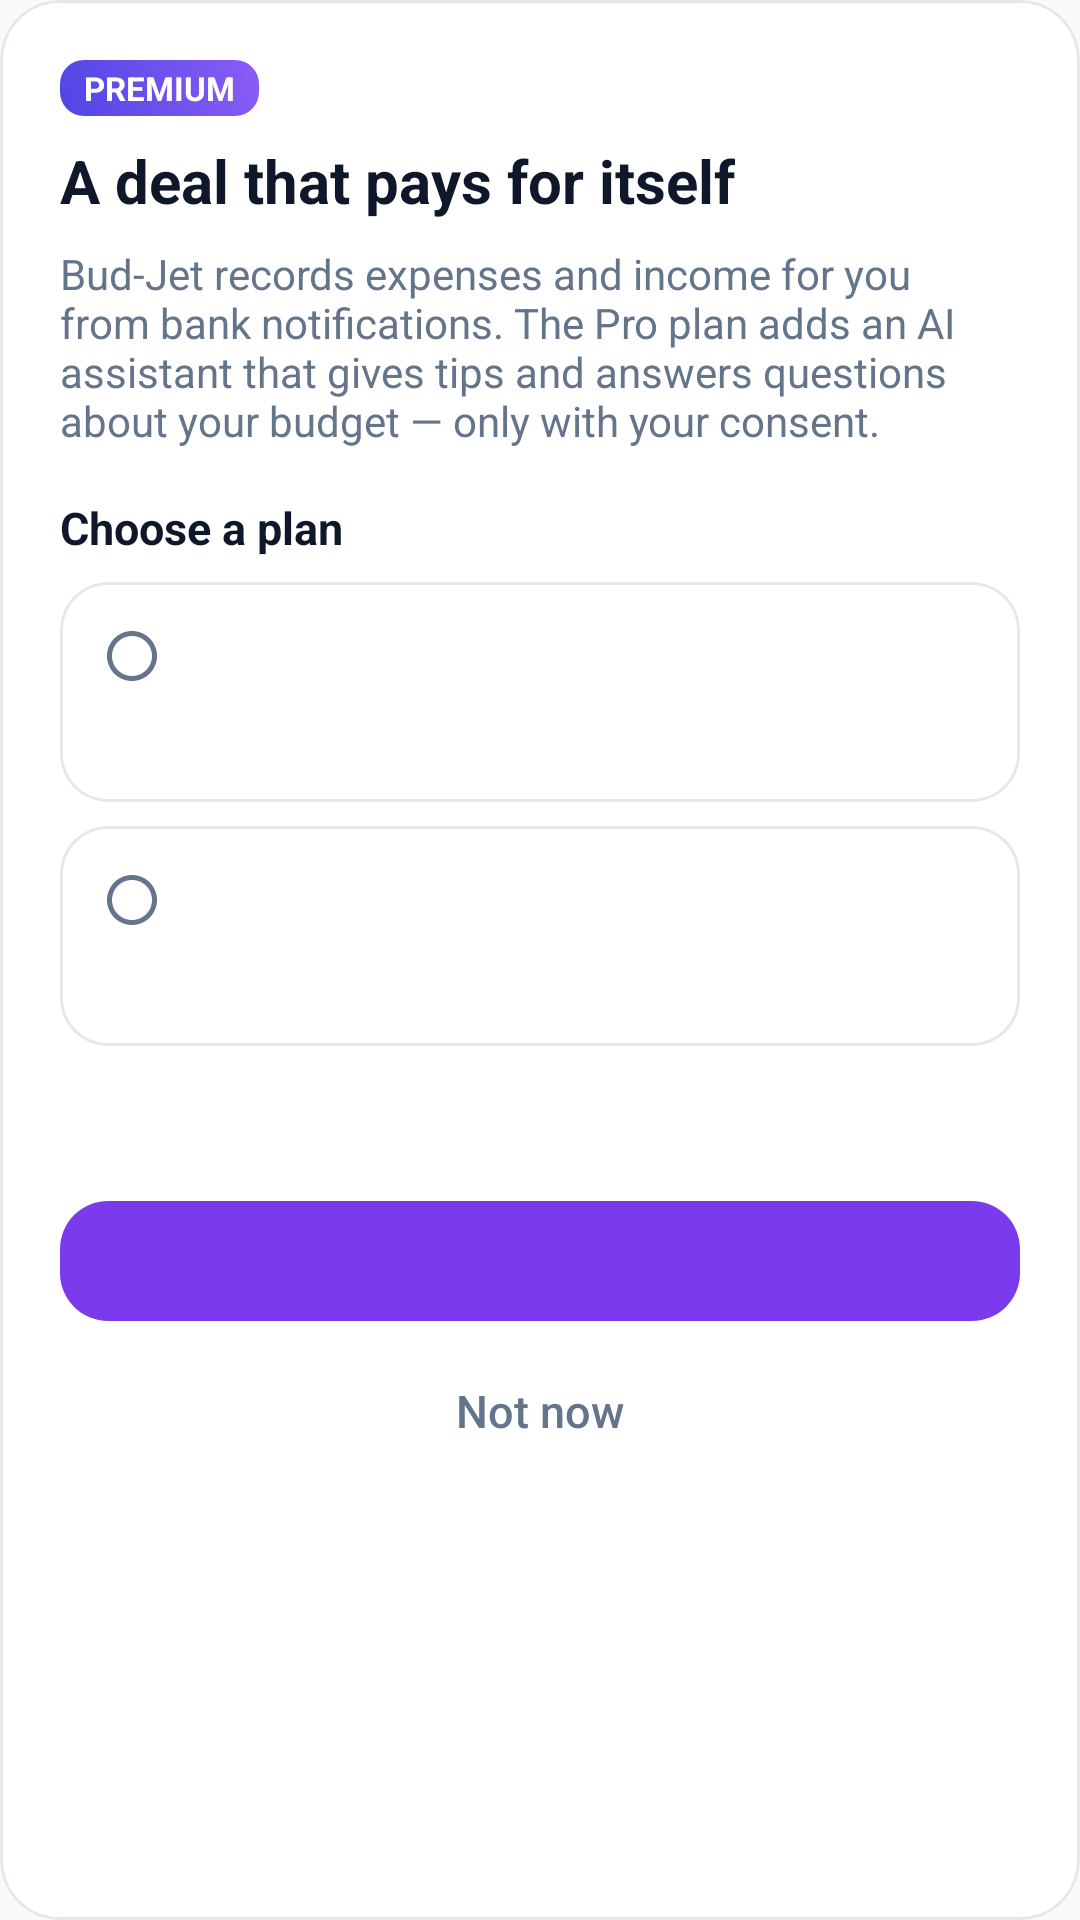

Icon click points for this 1080px x 1920px phone screenshot, format (x=x, y=y):
radio off: (x=132, y=656), (x=132, y=900)
